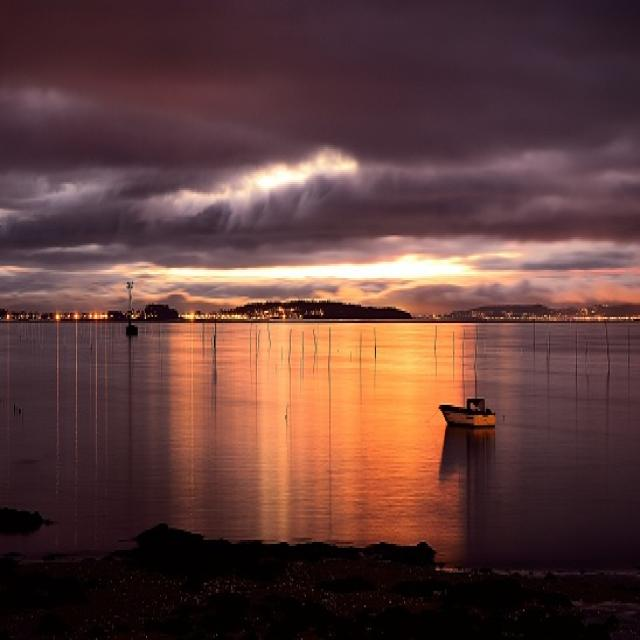Boat: (422, 381, 512, 466)
